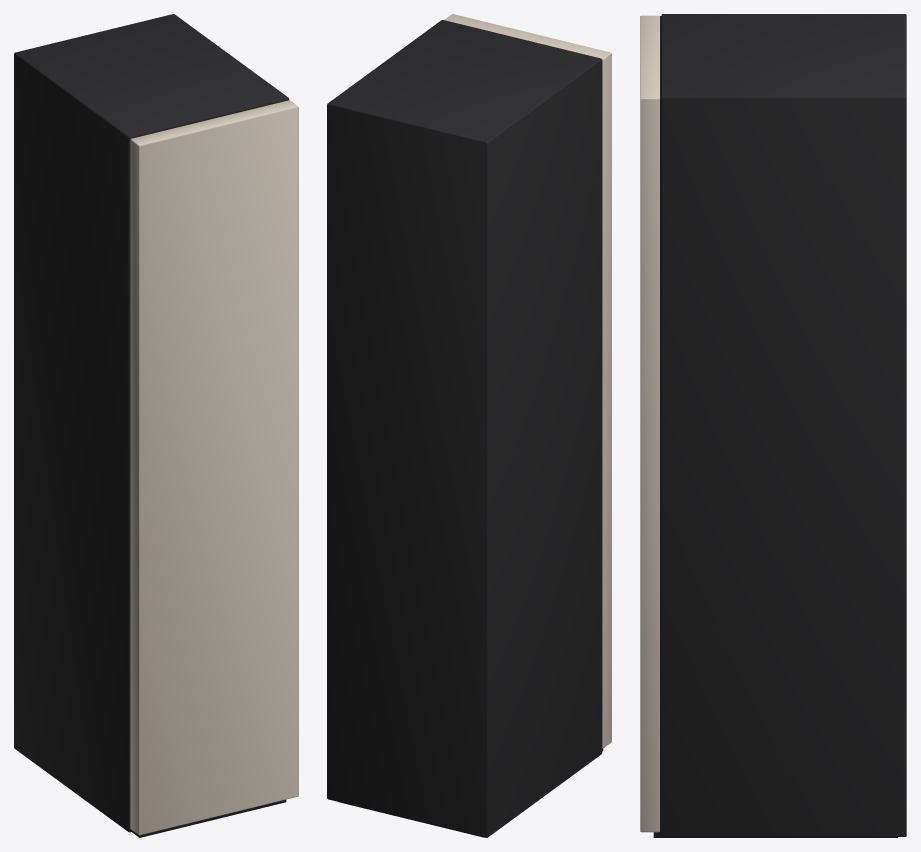
File: SC3GBE52.glb
3 views of the same model, side by side, from view 1: azimuth 30°, elevation 25°; view 2: azimuth 150°, elevation 25°; view 3: azimuth 270°, elevation 25° (orthographic). The views are drawn at different scales.
Parts seen in each view (by area): view 1: SC3GBE52; view 2: SC3GBE52; view 3: SC3GBE52.
Part boxes in pixels (x1,y1,x2,y2): SC3GBE52: [14, 14, 298, 837]; SC3GBE52: [327, 14, 611, 837]; SC3GBE52: [640, 14, 906, 837].
Bounding box in the file's own units: 0.445 × 1.85 × 0.6.
